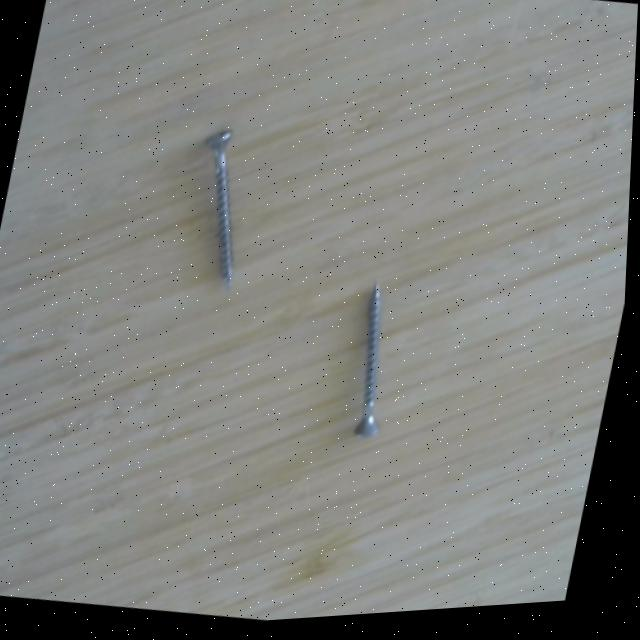Black screw: (200, 122, 241, 304), (357, 277, 393, 450)
